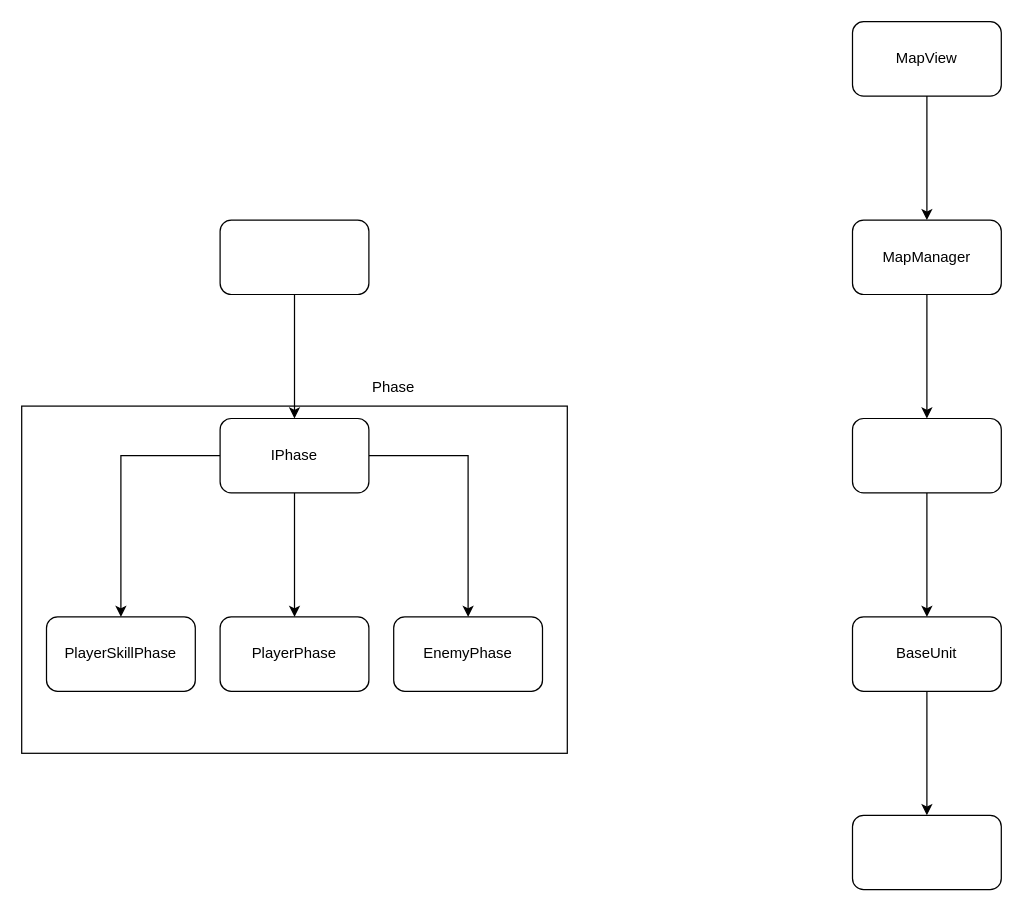
The diagram is 1023 pixels wide and 911 high, and some of its shapes have lost their labels. Here are the shapes that lost their labels. From the top down, the centre of each, then its label:
pixel 294 256: PhaseManager
pixel 926 455: IUnit
pixel 926 852: BaseUnitView
